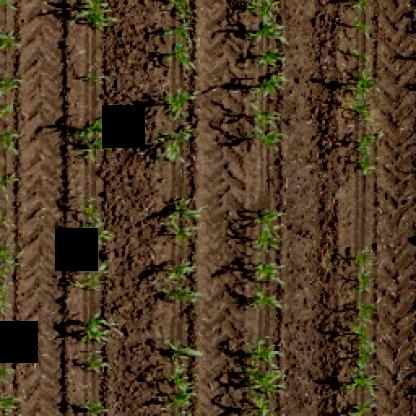sorghum_plant: (63, 200, 114, 416), (0, 0, 24, 416), (159, 198, 205, 413), (236, 213, 281, 416), (235, 0, 287, 154), (344, 0, 384, 182), (158, 0, 200, 169), (346, 247, 384, 416), (65, 112, 119, 159), (63, 0, 121, 31)
